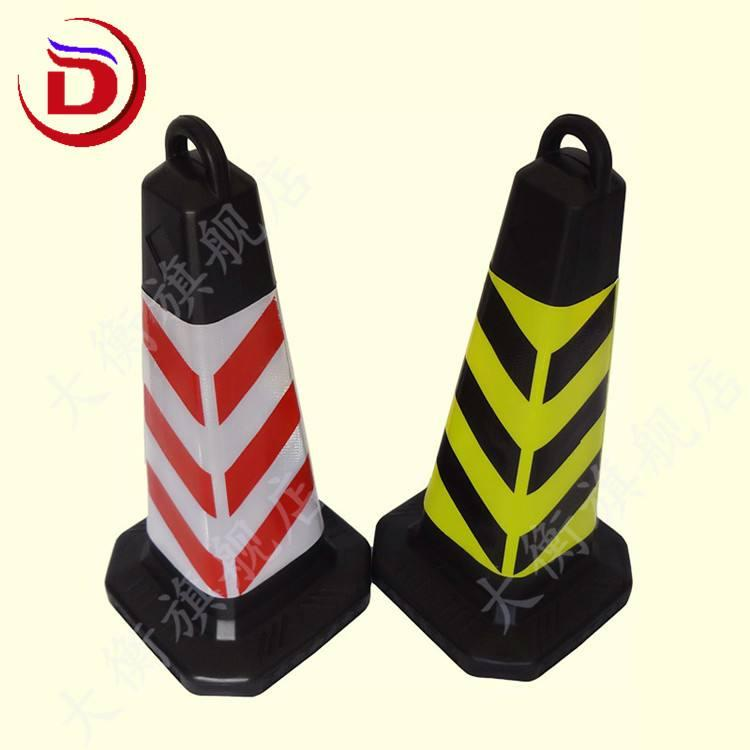sign: (376, 101, 670, 693), (106, 121, 376, 708)
